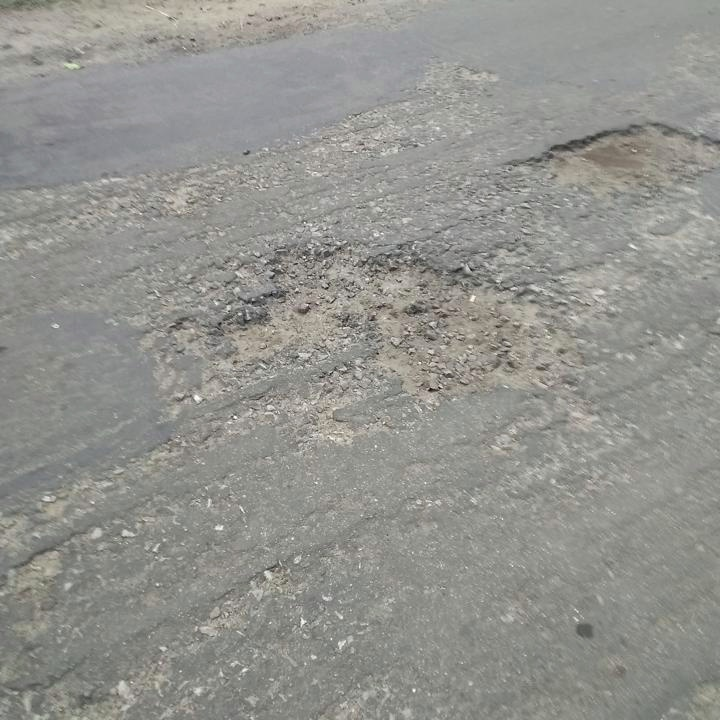pothole: (164, 232, 559, 398), (505, 117, 719, 199)
